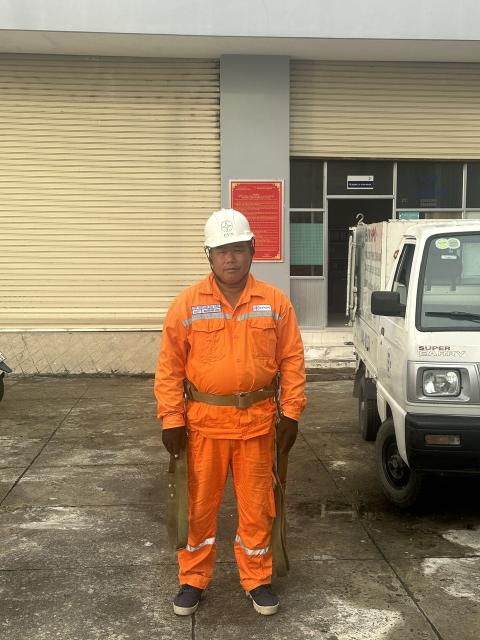gloves: (229, 573, 288, 622), (161, 573, 209, 629), (149, 422, 192, 460), (269, 411, 304, 455)
harness: (169, 372, 284, 418)
helmet: (188, 208, 264, 252)
